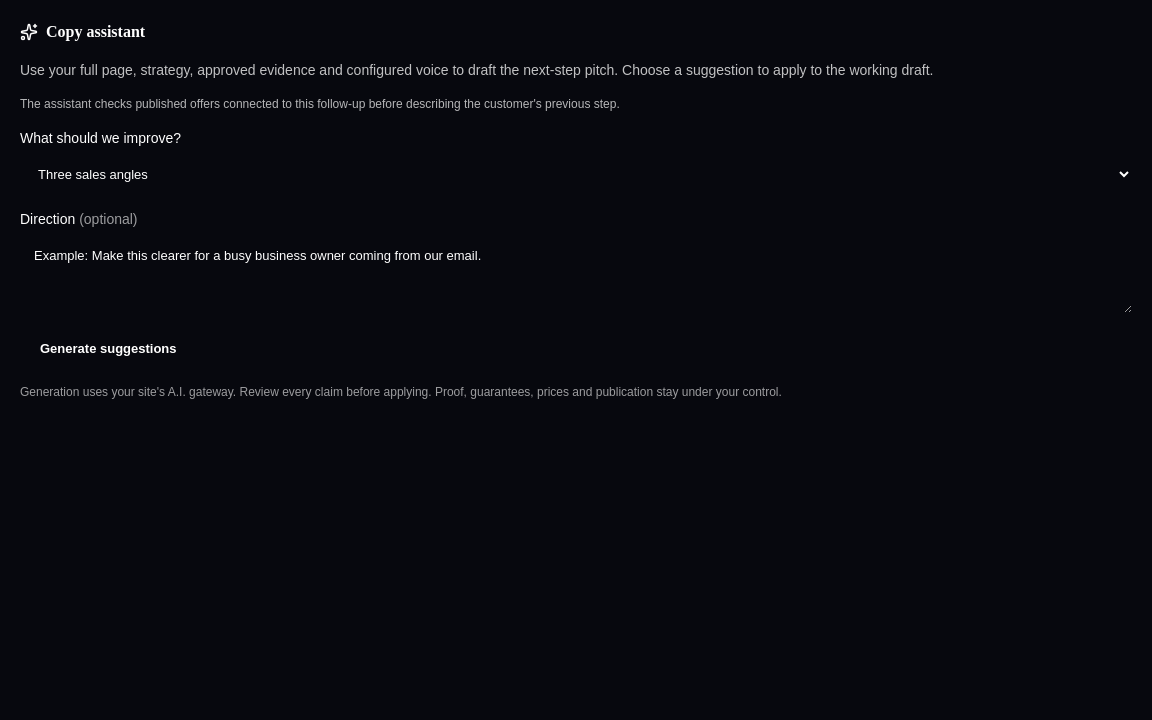
Scenario: copy assistant user control › sends the working page and saved offer identity without trusting preview-only parent facts
What coordinates should you click on to do the following:
click the button "Generate suggestions"
I would click on:
 (108, 348)
Its box is [20, 329, 196, 368].
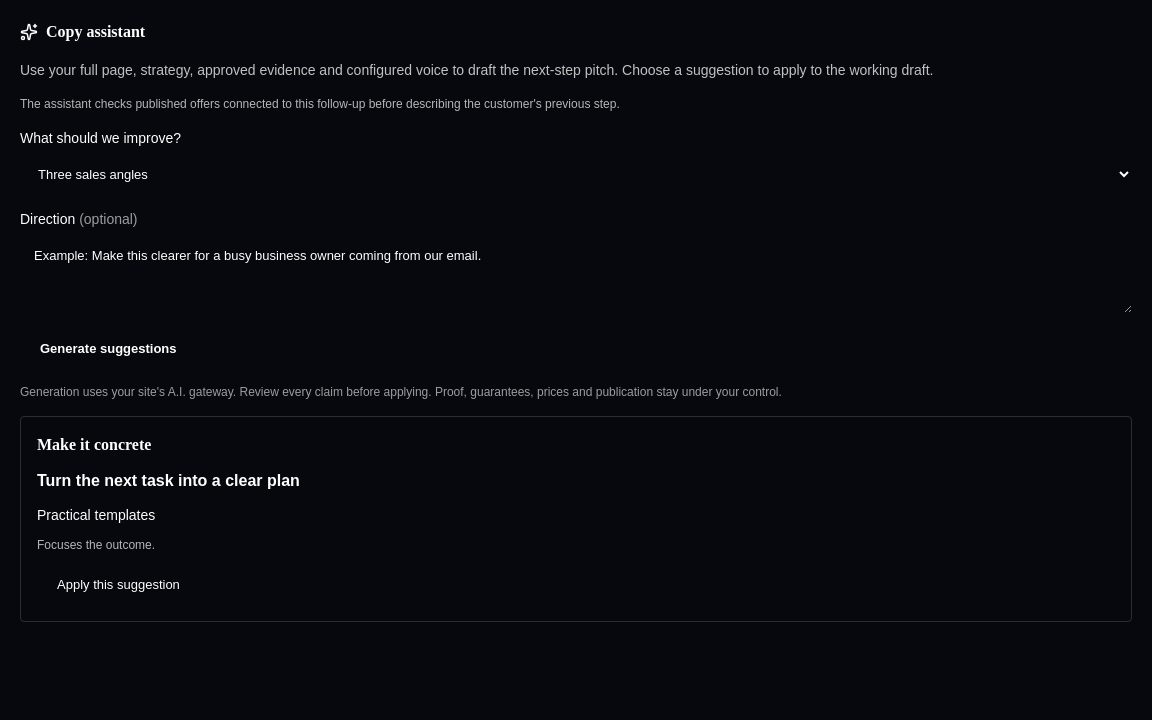
Result: the text "Turn the next task into a clear plan" is shown at [37, 472, 300, 489]
